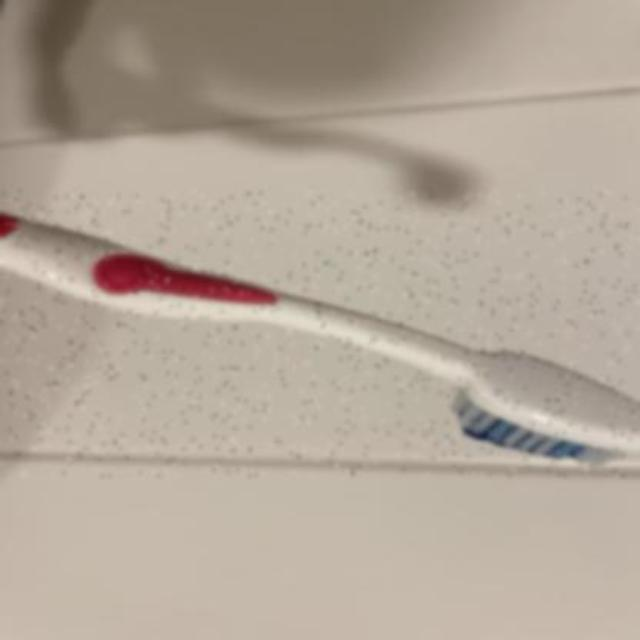toothbrush: (0, 191, 640, 477)
